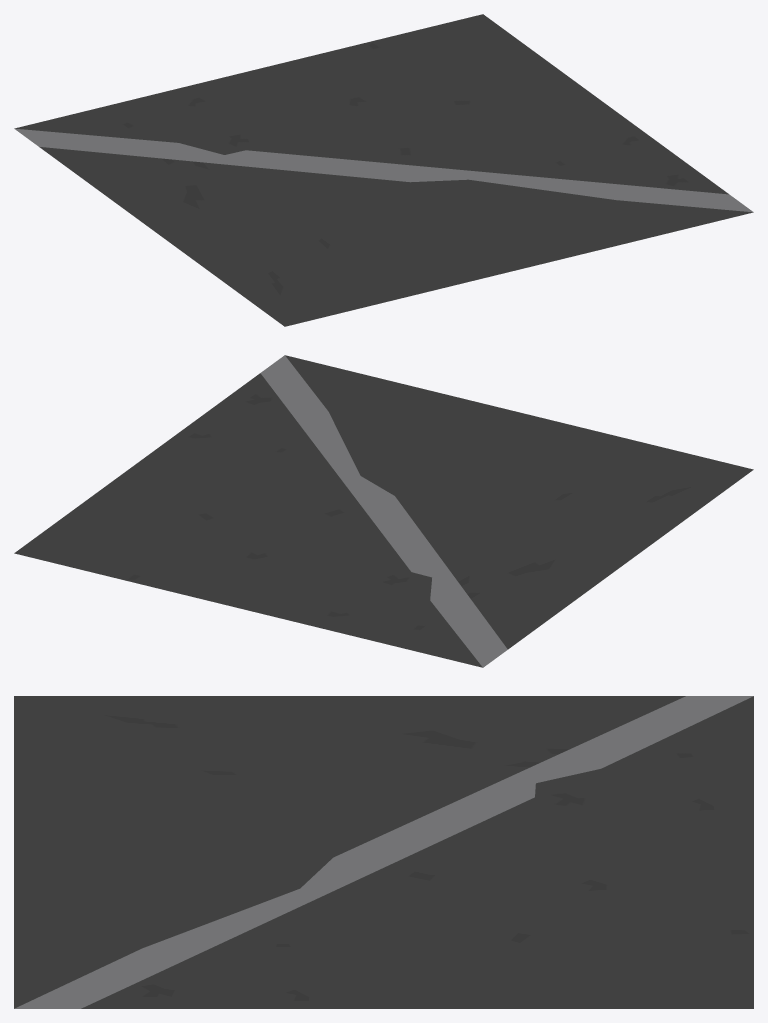
Rendered from SM_Env_Road_Parking_02.glb.
3 renders of one model, top to bottom at view 1: azimuth 30°, elevation 25°; view 2: azimuth 150°, elevation 25°; view 3: azimuth 270°, elevation 25°, orthographic. The views are drawn at different scales.
Visible parts, largest first — view 1: SM_Env_Road_Parking_02; view 2: SM_Env_Road_Parking_02; view 3: SM_Env_Road_Parking_02.
Boxes of the visible parts, bbox=[...] form: SM_Env_Road_Parking_02: bbox=[14, 14, 753, 326]; SM_Env_Road_Parking_02: bbox=[14, 355, 753, 667]; SM_Env_Road_Parking_02: bbox=[14, 696, 753, 1008].
Size of the model in its own units: 5 by 0 by 5.
Materials: 1 (1 with a texture image).
